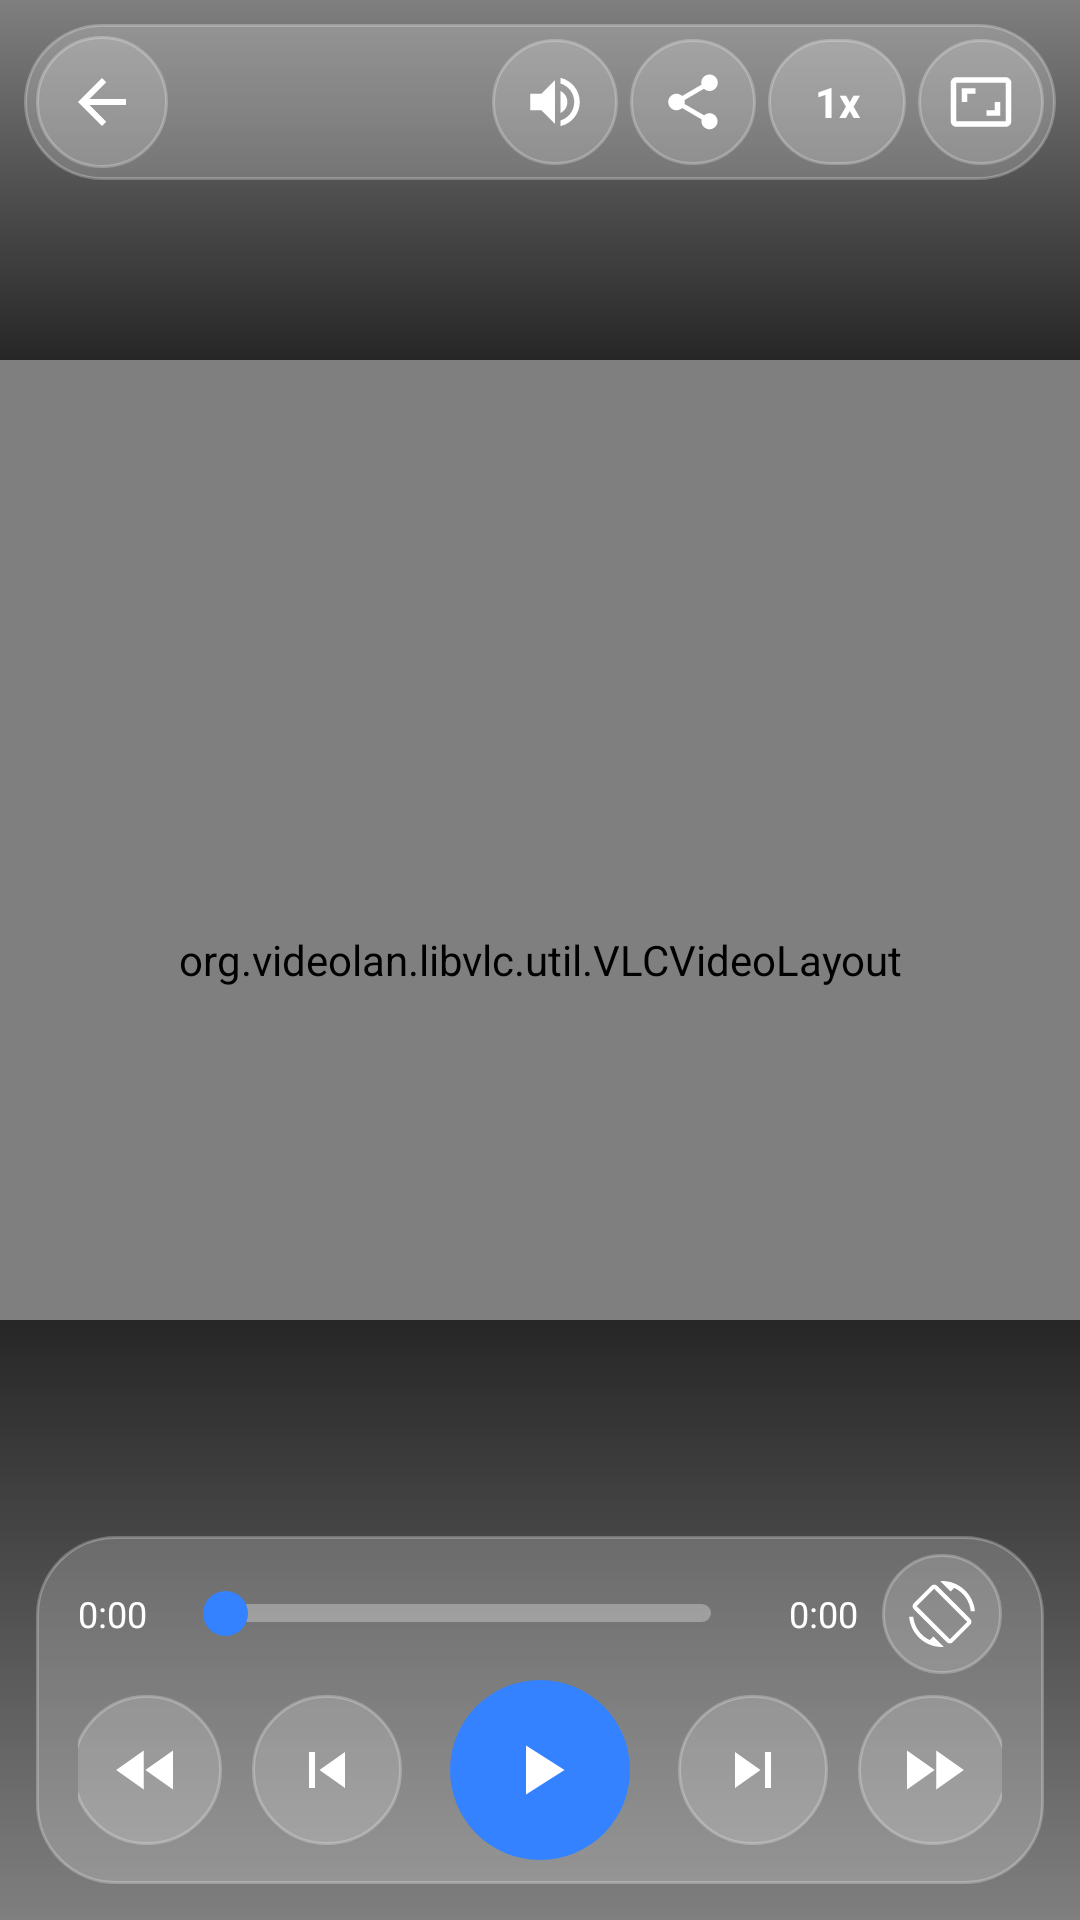

Screen size 1080w x 1920h. Icon name, then its center in pixels as (x,y):
Forward 10s: (930,1770)
Next: (753,1770)
Play/Pause: (540,1770)
Previous: (327,1770)
Rewind 10s: (150,1770)
Rotate: (942,1614)
